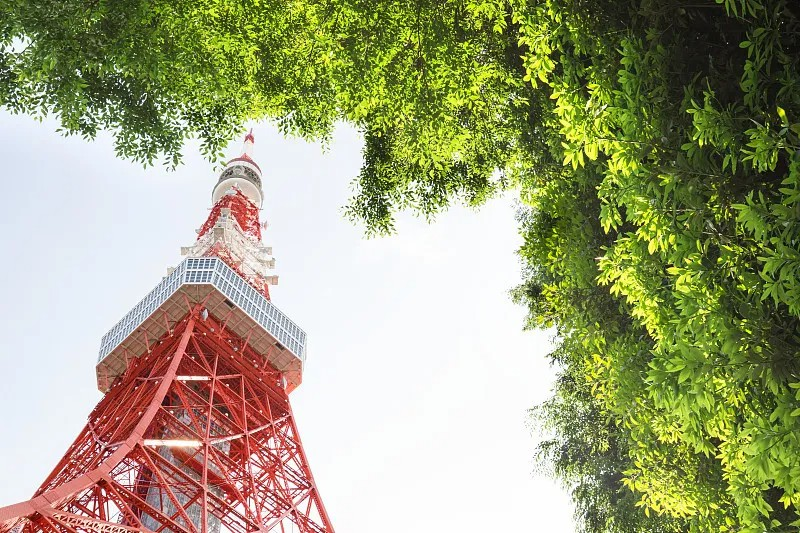Tokyo: (1, 126, 337, 532)
